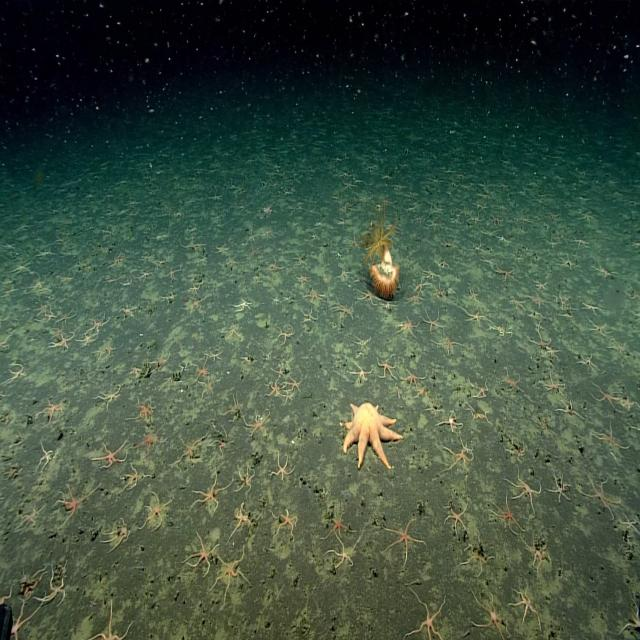brittle-stars: (407, 591, 446, 640), (472, 589, 508, 639), (382, 517, 422, 562), (582, 472, 618, 516), (214, 550, 248, 595), (553, 391, 587, 435), (195, 471, 231, 512), (88, 606, 130, 640), (512, 586, 542, 627), (492, 496, 522, 536), (142, 491, 172, 530), (8, 602, 38, 640), (511, 473, 542, 509), (186, 535, 215, 573), (463, 530, 489, 572), (59, 484, 87, 522), (94, 438, 128, 469), (43, 563, 66, 605), (329, 538, 359, 570), (178, 434, 206, 468), (137, 425, 165, 457), (272, 509, 299, 540), (443, 445, 474, 472), (19, 500, 46, 530), (592, 422, 620, 450), (106, 518, 129, 552), (446, 501, 469, 533), (232, 503, 252, 538), (526, 542, 549, 572), (123, 465, 148, 492), (487, 204, 512, 231), (550, 470, 571, 502), (325, 512, 349, 540), (349, 330, 374, 356), (592, 381, 616, 408), (625, 596, 640, 639), (273, 453, 295, 480), (288, 250, 310, 277), (332, 198, 356, 222), (246, 412, 268, 438), (98, 385, 122, 408), (41, 399, 63, 424), (541, 372, 563, 396), (20, 574, 40, 600), (237, 466, 256, 493), (378, 355, 398, 380), (37, 446, 56, 472), (134, 398, 154, 422), (260, 342, 278, 368), (438, 334, 460, 355), (53, 332, 75, 353), (580, 351, 600, 374), (120, 271, 138, 296), (422, 310, 442, 332), (529, 316, 549, 338), (409, 207, 428, 230), (334, 299, 354, 320), (351, 361, 372, 381), (463, 307, 484, 327), (404, 368, 424, 389), (442, 411, 462, 432), (398, 315, 417, 337), (214, 429, 230, 455), (226, 398, 242, 424), (502, 370, 520, 393), (98, 339, 116, 362), (153, 349, 171, 372), (102, 270, 123, 289), (7, 364, 26, 385), (594, 264, 616, 282), (91, 312, 110, 332), (492, 320, 512, 339), (530, 333, 550, 352), (589, 318, 610, 336), (469, 406, 490, 424), (439, 234, 457, 255), (622, 512, 639, 534), (509, 440, 526, 462), (335, 266, 355, 284), (470, 378, 487, 399), (536, 414, 551, 437), (358, 287, 377, 305), (58, 305, 77, 323), (612, 340, 630, 359), (494, 266, 514, 282), (32, 272, 48, 292), (0, 585, 13, 609), (560, 252, 577, 270), (330, 246, 347, 264), (77, 332, 96, 348), (122, 303, 138, 322), (202, 378, 218, 397), (5, 461, 20, 481), (544, 627, 567, 640), (235, 297, 252, 314), (307, 286, 325, 302), (277, 325, 293, 343), (195, 359, 210, 378), (162, 630, 190, 640), (12, 260, 29, 276), (557, 292, 573, 309), (268, 379, 282, 398), (584, 300, 600, 316), (303, 308, 318, 325), (288, 375, 302, 393), (432, 282, 446, 300), (228, 322, 241, 341), (512, 294, 527, 310), (188, 295, 203, 311), (530, 292, 546, 307), (532, 306, 548, 321), (571, 236, 588, 250), (622, 393, 635, 411), (423, 267, 438, 282), (547, 346, 562, 361), (267, 260, 283, 274), (32, 298, 46, 314), (346, 233, 359, 250), (167, 267, 181, 282), (207, 348, 222, 362), (111, 252, 125, 267), (138, 268, 152, 283), (382, 300, 397, 314), (416, 384, 430, 399), (408, 291, 424, 304), (297, 273, 313, 286), (580, 210, 596, 223), (216, 242, 230, 256), (534, 279, 548, 293), (131, 362, 144, 377), (210, 186, 223, 201), (61, 271, 74, 286), (187, 281, 200, 295), (227, 255, 240, 269), (470, 242, 484, 255), (497, 234, 511, 247), (276, 363, 288, 378), (282, 389, 294, 404), (190, 237, 205, 249), (468, 286, 479, 302), (483, 257, 496, 270), (99, 243, 112, 256), (468, 212, 482, 224), (438, 255, 450, 269), (475, 201, 489, 213), (0, 309, 8, 330), (44, 309, 56, 323), (482, 228, 496, 240), (0, 336, 9, 354), (265, 227, 277, 240), (249, 244, 260, 258), (199, 250, 210, 264), (415, 280, 427, 292), (140, 251, 152, 263), (344, 178, 356, 190), (154, 256, 166, 268), (433, 202, 444, 215), (283, 291, 294, 304), (549, 210, 562, 221), (272, 292, 282, 306), (428, 218, 439, 230), (576, 193, 588, 204), (307, 206, 318, 217), (451, 214, 462, 225), (264, 204, 274, 216), (310, 231, 320, 243), (382, 170, 392, 182), (632, 238, 640, 252), (341, 170, 351, 181), (315, 218, 325, 229), (272, 179, 280, 190)
